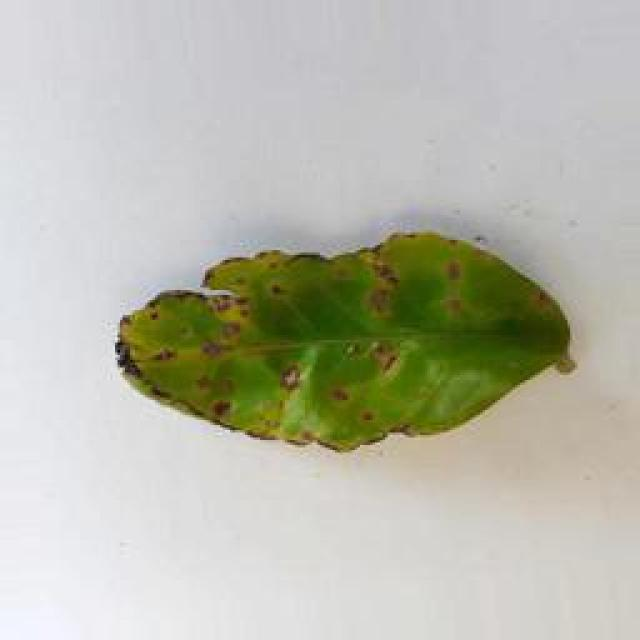Helopeltis: (110, 227, 588, 448)
